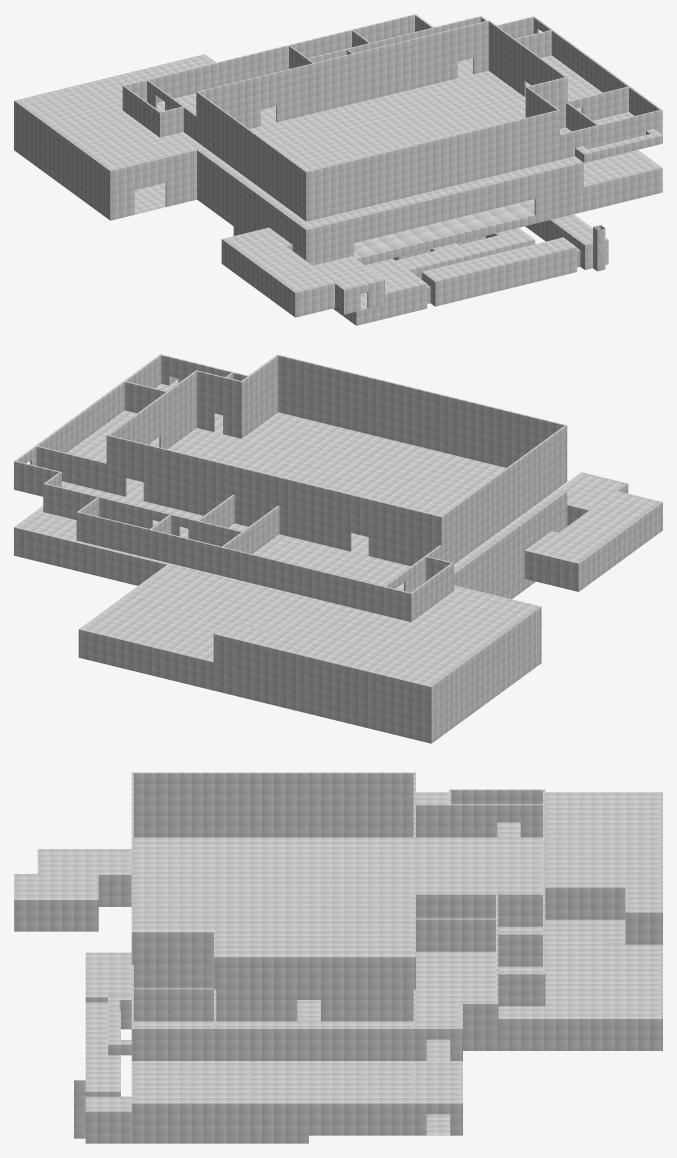
File: la_guardia_air_terminal.obj
3 views of the same model, one above another, from view 1: azimuth 30°, elevation 25°; view 2: azimuth 150°, elevation 25°; view 3: azimuth 270°, elevation 25° (orthographic). The views are drawn at different scales.
Parts seen in each view (by area): view 1: map_la_guardia_air_terminal_Cube.001; view 2: map_la_guardia_air_terminal_Cube.001; view 3: map_la_guardia_air_terminal_Cube.001.
Boxes of the visible parts, x1,y1,x2,y2 form: map_la_guardia_air_terminal_Cube.001: (14, 14, 662, 325); map_la_guardia_air_terminal_Cube.001: (14, 354, 662, 743); map_la_guardia_air_terminal_Cube.001: (14, 772, 662, 1143).
Size of the model in its own units: 56.2 by 18 by 55.2.
